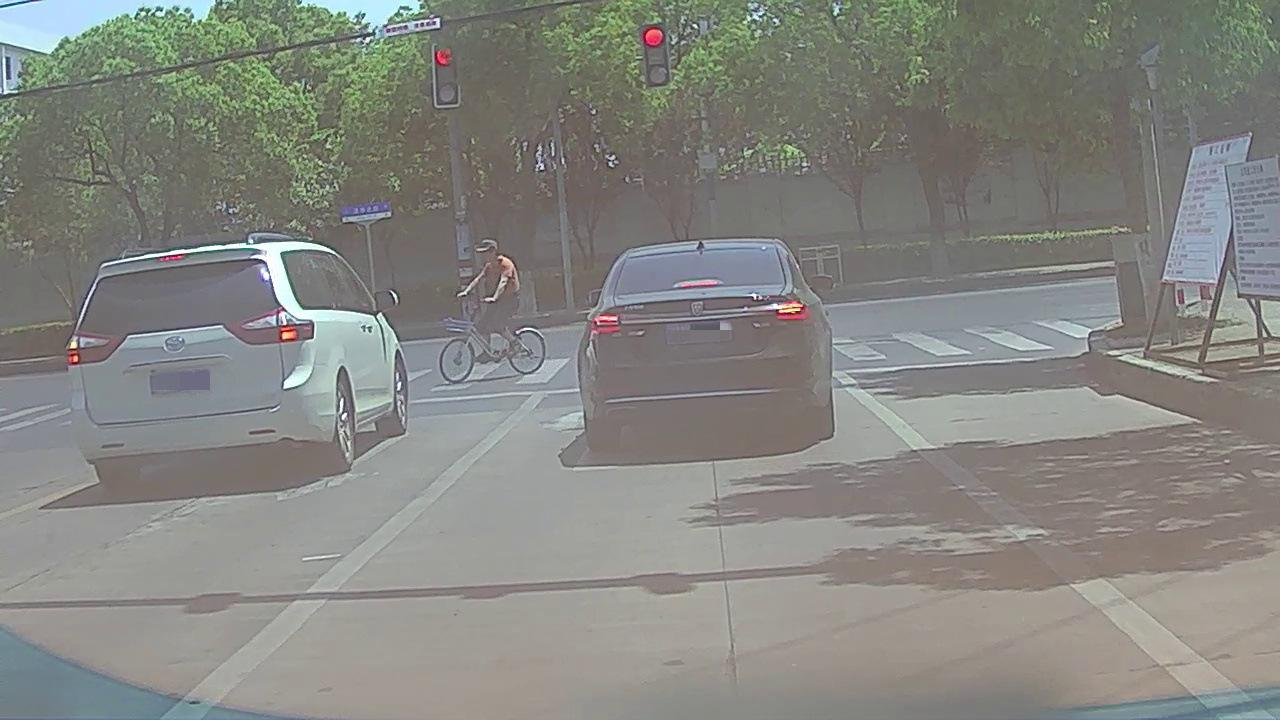traffic_light: (434, 45, 458, 104), (645, 27, 666, 87)
